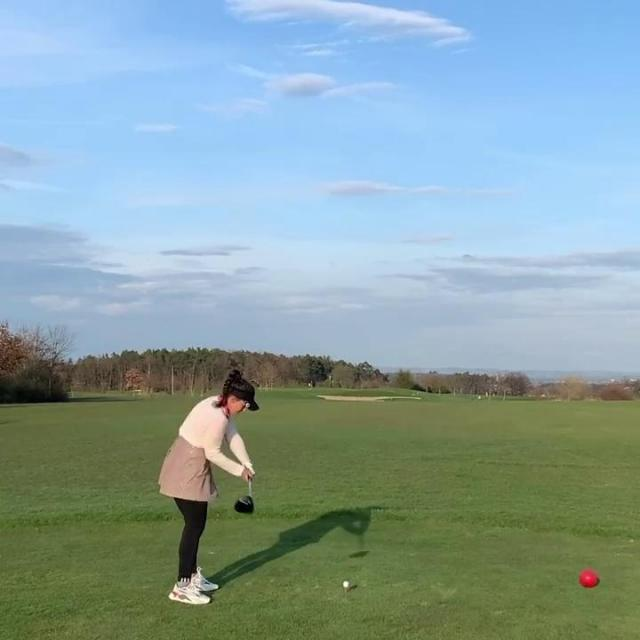golf ball: (341, 581, 349, 589)
golf club-handle: (234, 472, 253, 514)
